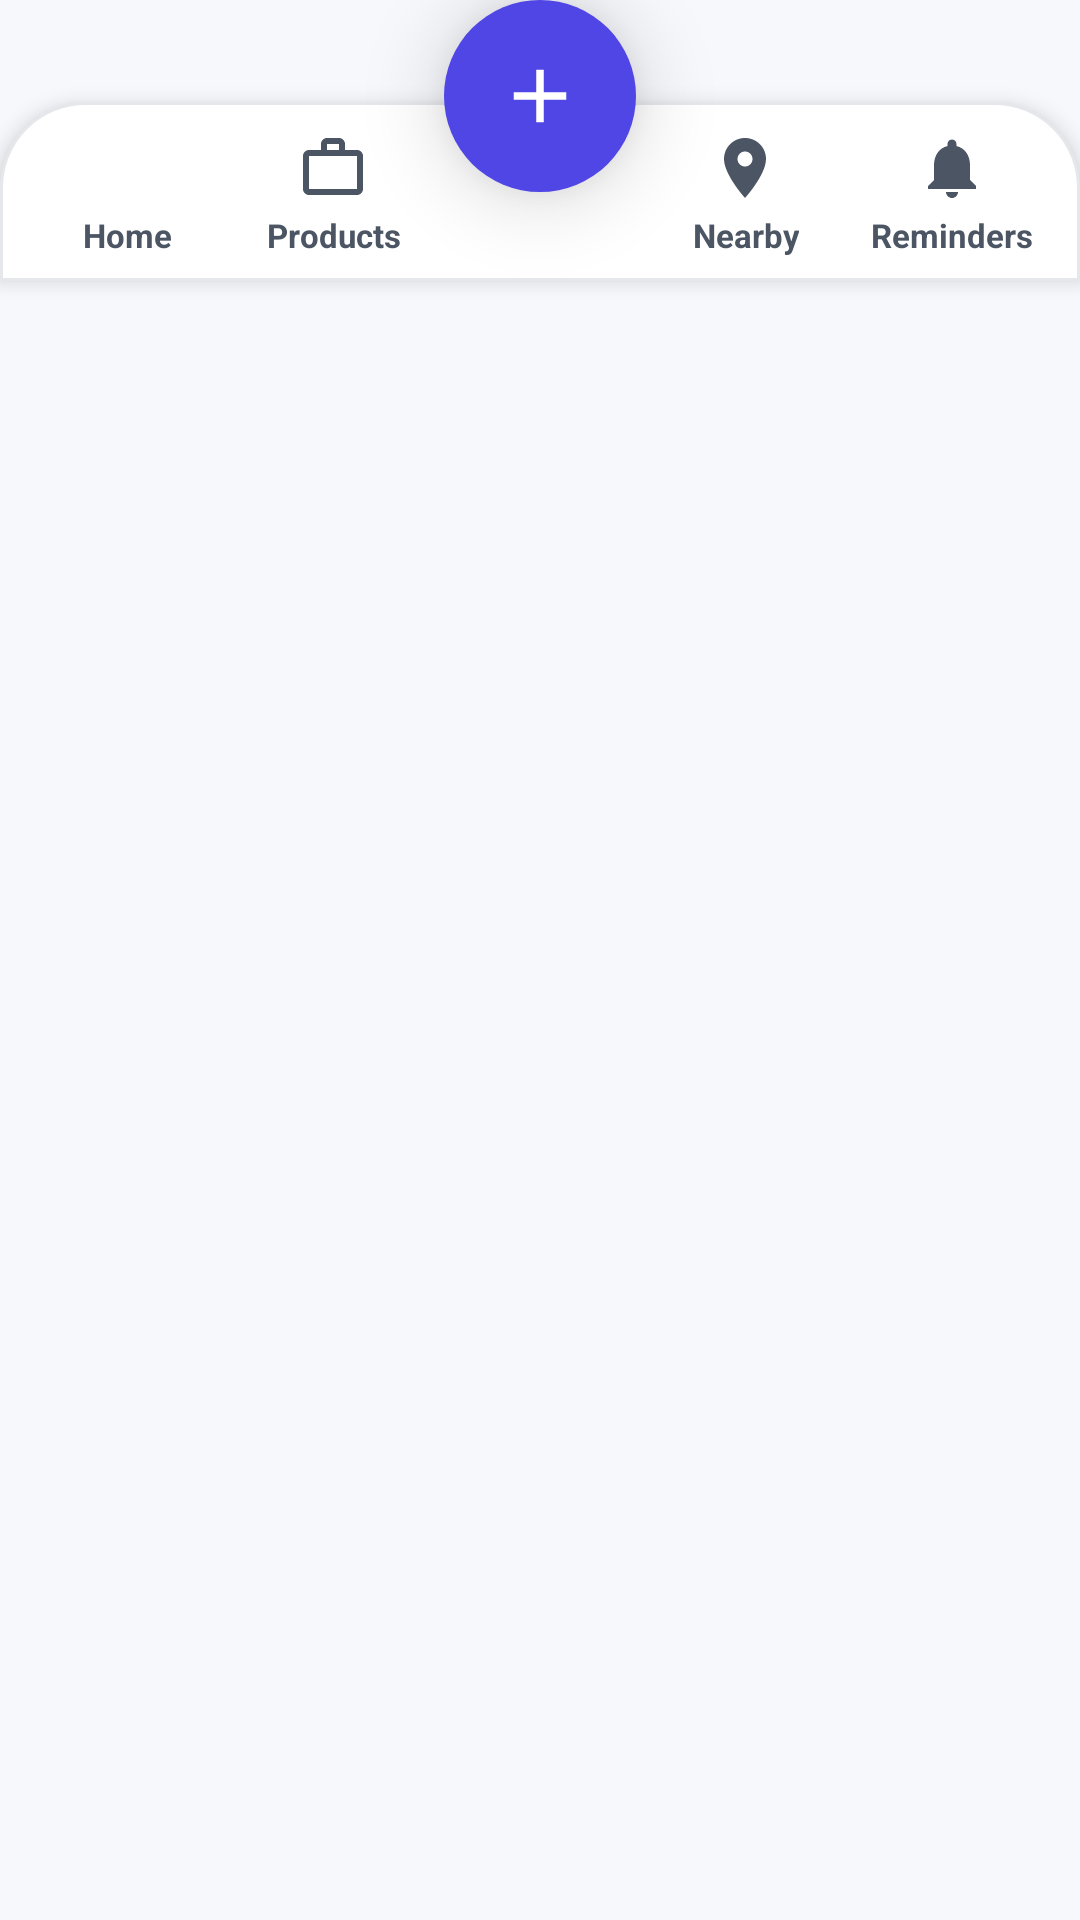

Icon click points for this 1080 × 1920 phone screenshot, format point (x, y):
Add product: point (540, 96)
